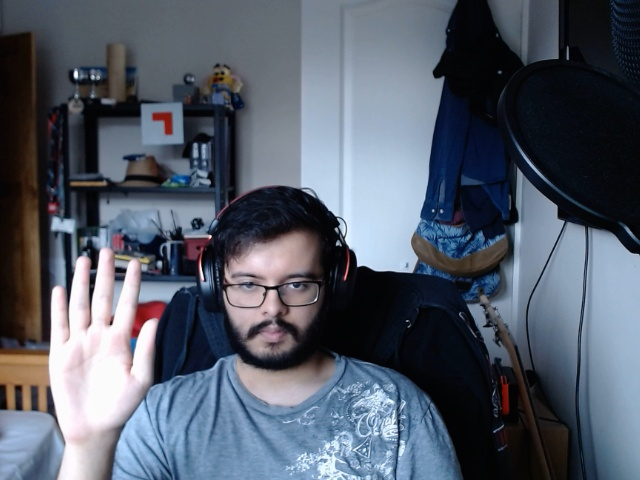Hello: (23, 238, 167, 456)
